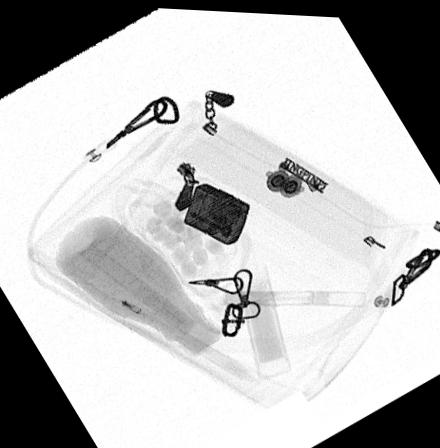Lighter: (182, 179, 248, 242)
